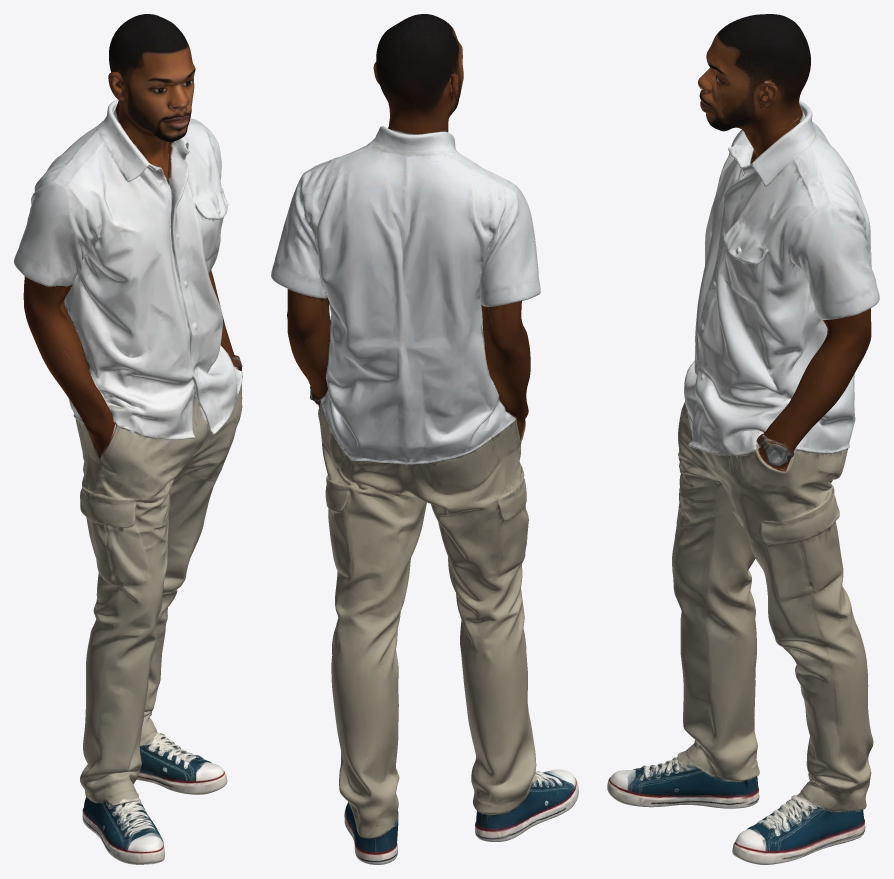
File: bermuda-npc-male.glb
3 views of the same model, side by side, from view 1: azimuth 30°, elevation 25°; view 2: azimuth 150°, elevation 25°; view 3: azimuth 270°, elevation 25° (orthographic). The views are drawn at different scales.
Size of the model in its own units: 0.5637 by 1.9 by 0.577.
1 material, 1 textured.
